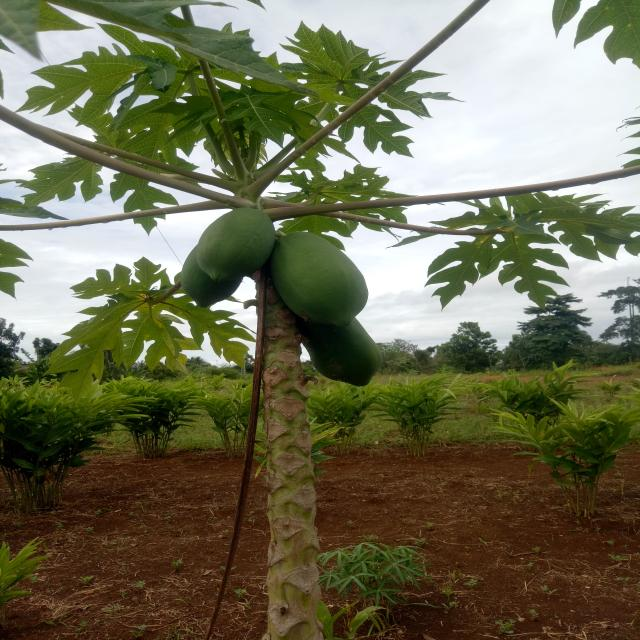Pepaya unrippen: (273, 237, 366, 325), (197, 203, 270, 286), (304, 323, 386, 393)
